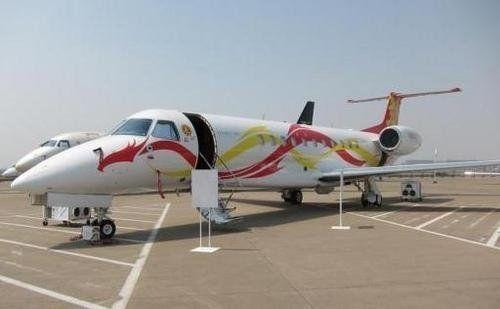airplane: (8, 85, 475, 239)
